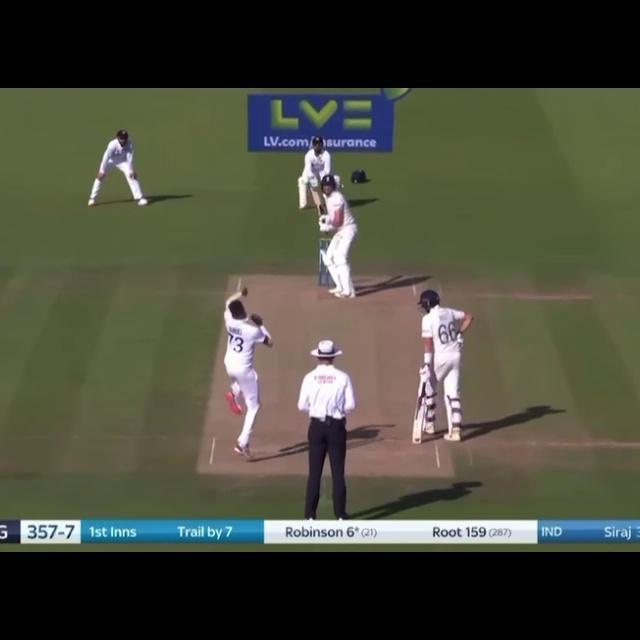umpire: (292, 337, 364, 530)
